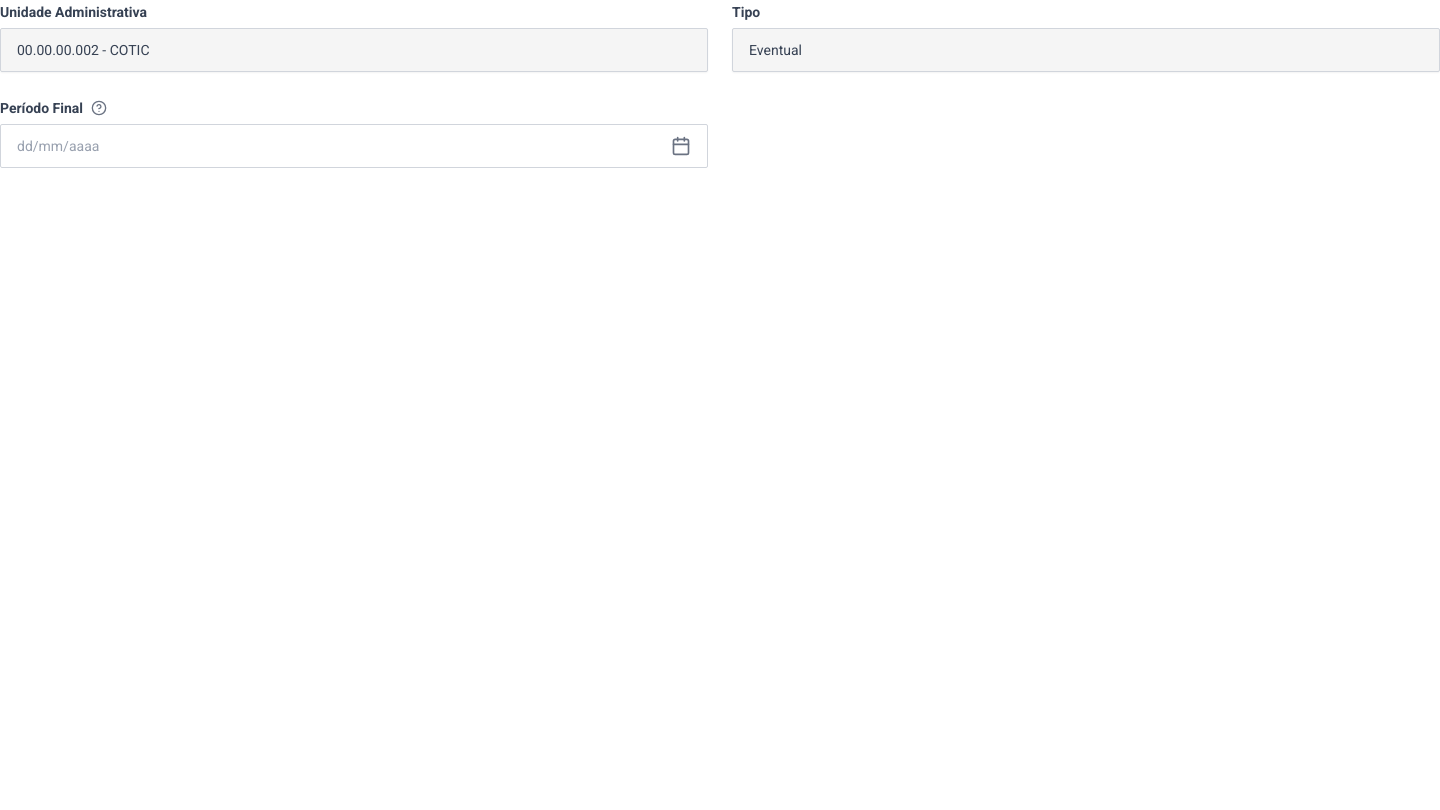
Test: ConciliacaoForm › abre o calendario ao clicar no botao de data
Click the button with aria-label "Selecionar data" at x=58, y=146, box [0,124,708,168]
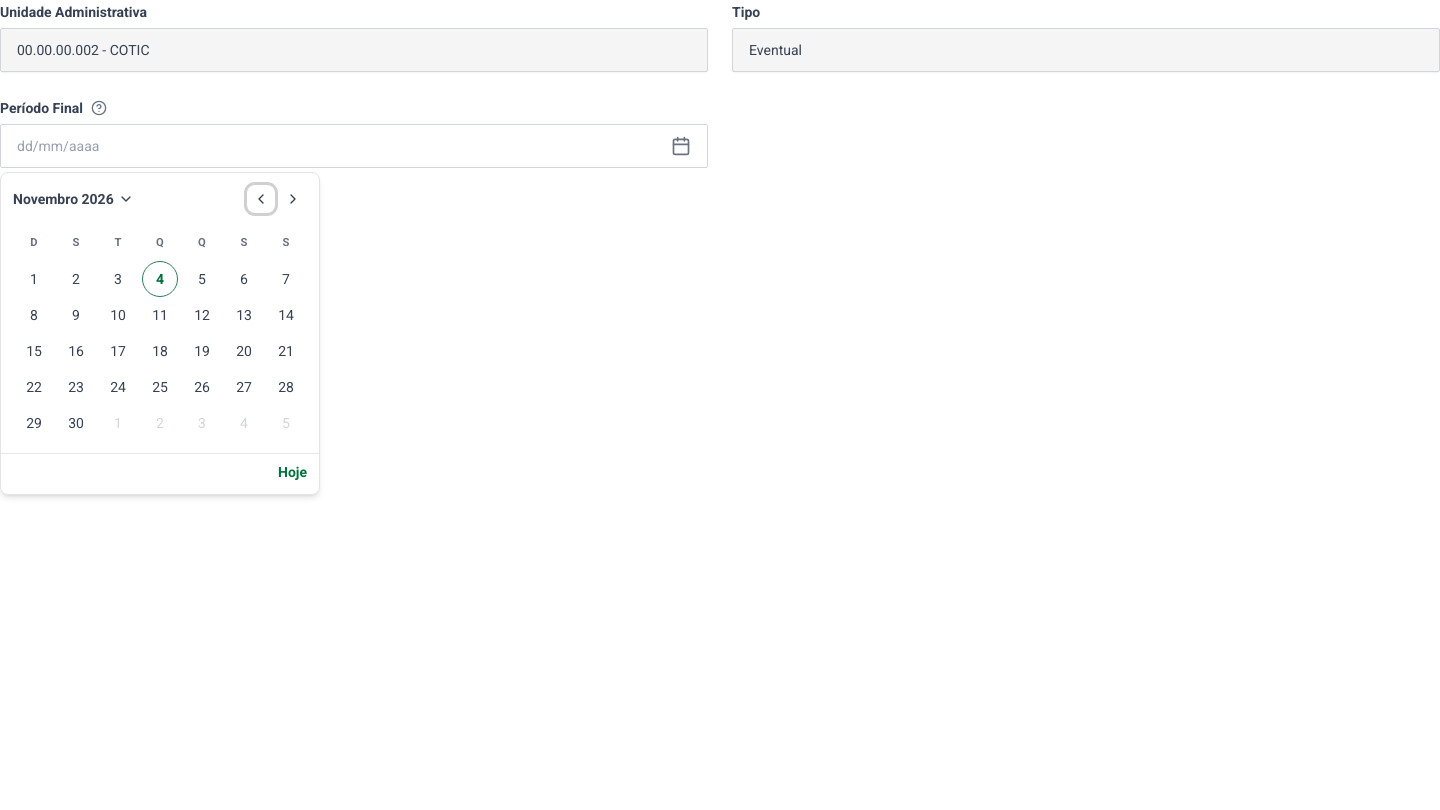
expect the dialog is shown: met, box [0,172,320,495]
